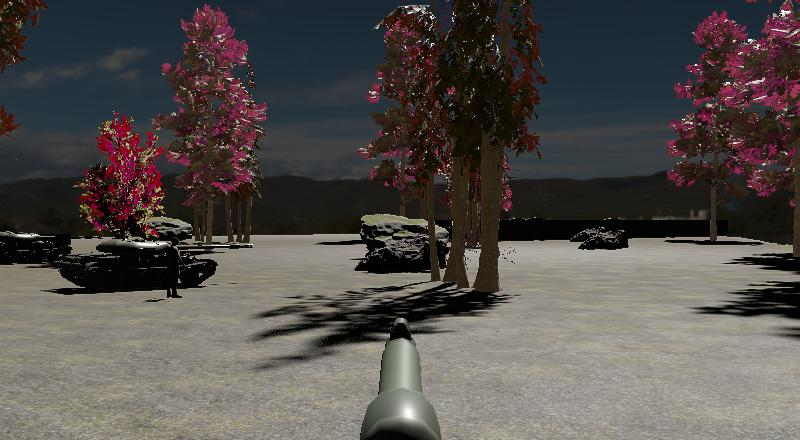Tank: (55, 235, 257, 295), (56, 235, 258, 295), (0, 227, 73, 267)
